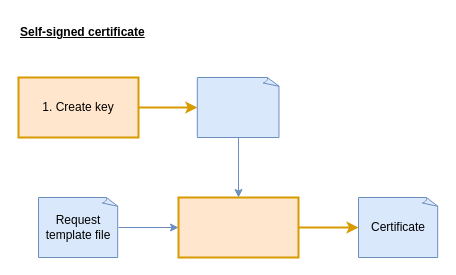
Some shapes in this 456 by 275 pixel diagram are drawn without their labels. The box of each missing label's shape, as (x1, y1, x2, y2) in pixels:
2. Create certificate: (177, 196, 299, 258)
Private key: (196, 76, 280, 138)
